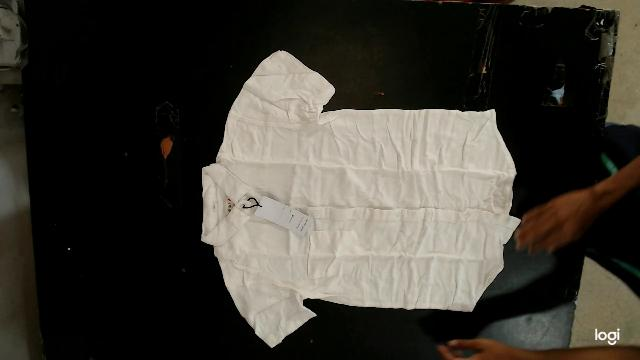new-garment: (201, 51, 520, 346)
